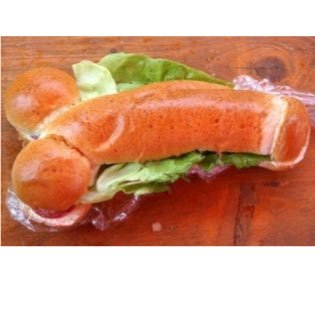sandwich: (1, 37, 314, 245)
